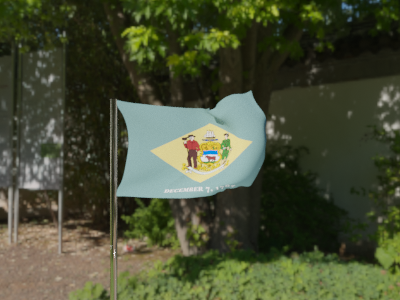Delaware flag: (115, 89, 269, 200)
